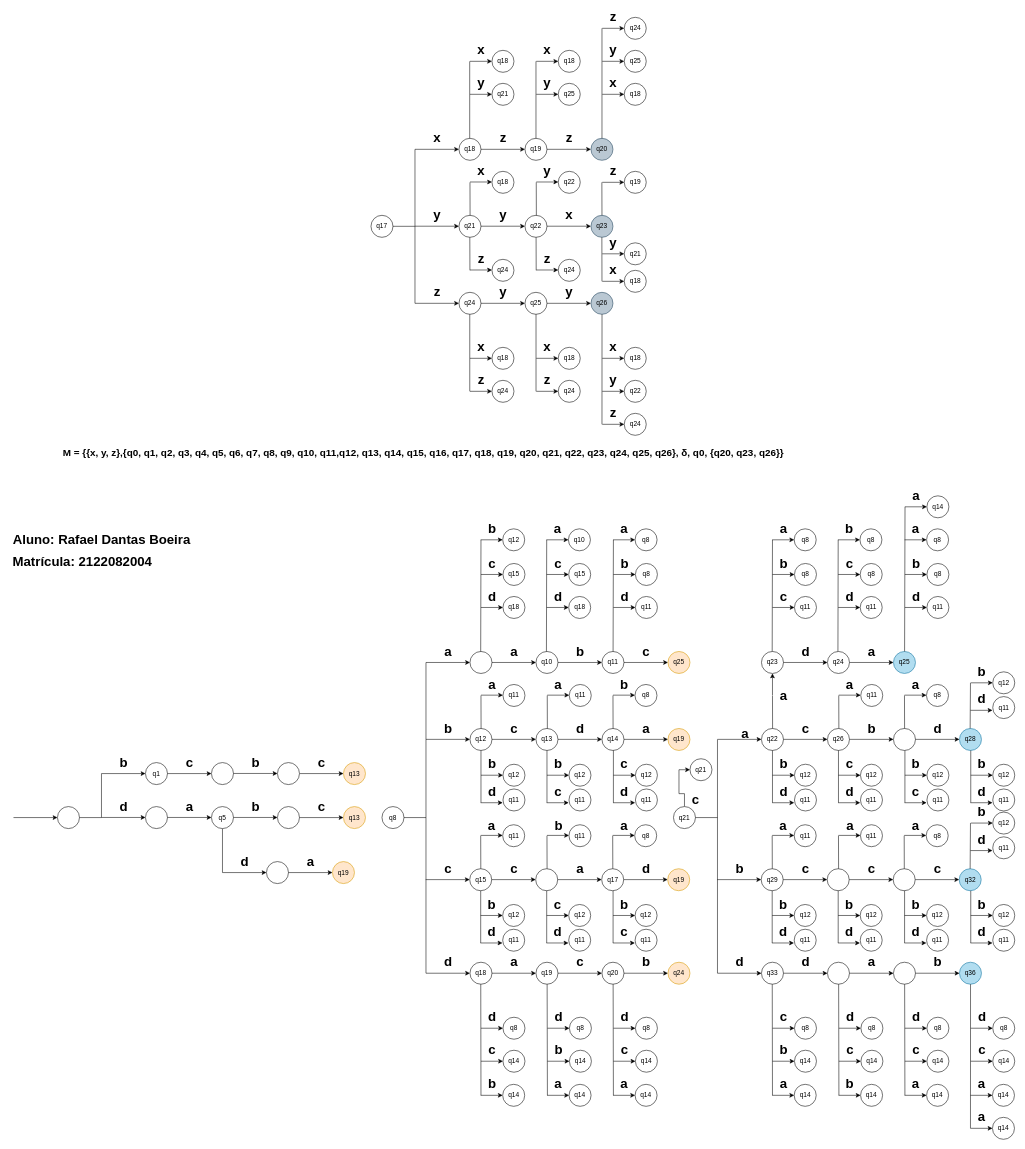
Image size: 1025x1149. Some labels were removed from this diagram. The centre of each missing label's shape, as x and y in pixels:
"q0" goes at point 68,817.
"q16" goes at point 546,879.
"q2" goes at point 222,773.
"q27" goes at point 904,739.
"q3" goes at point 288,773.
"q30" goes at point 838,879.
"q31" goes at point 904,879.
"q34" goes at point 838,973.
"q35" goes at point 904,973.
"q4" goes at point 156,817.
"q6" goes at point 288,817.
"q7" goes at point 277,872.
"q9" goes at point 480,662.
